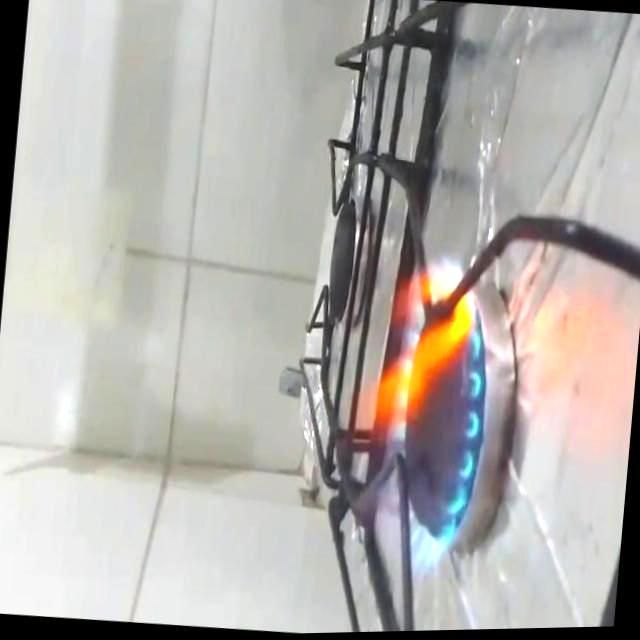fire: (329, 242, 493, 582)
